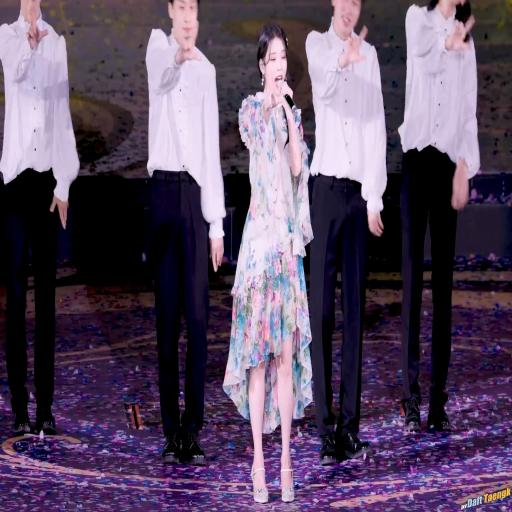IU: (257, 24, 290, 96)
